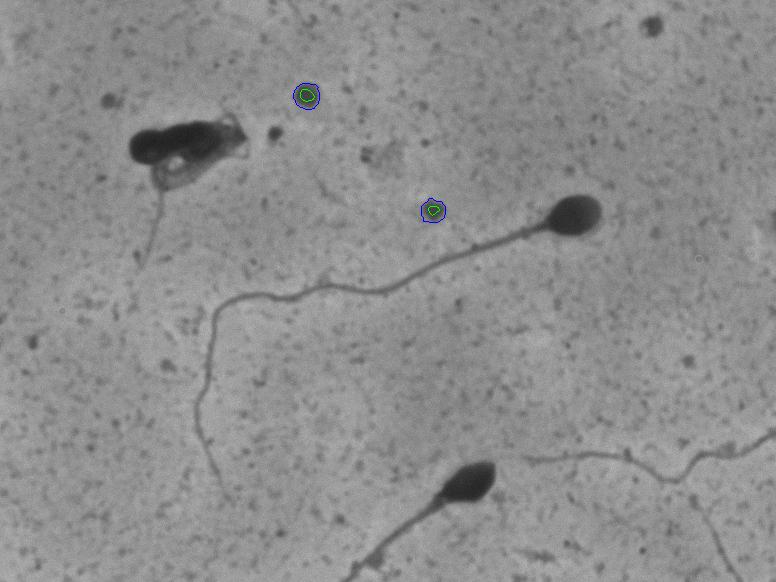Abnormal: (85, 76, 256, 288), (343, 441, 535, 574)
Normal: (184, 180, 616, 513)
